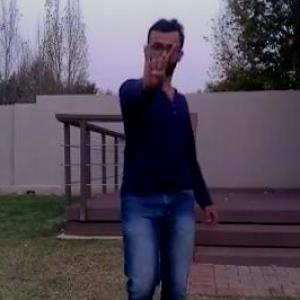takeoff-hand: (131, 36, 175, 93)
